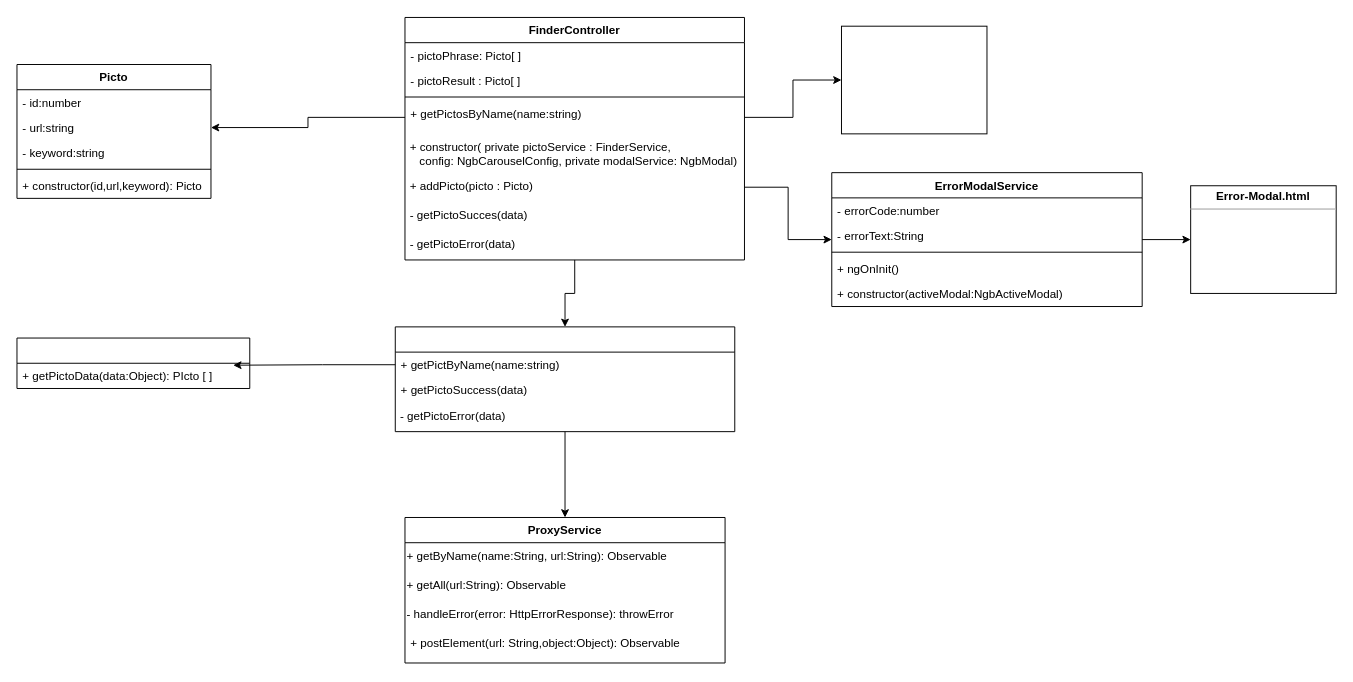
This 1353x682 diagram has some shape labels left out. Each missing label, with the box of its shape:
Finder.html: (841, 25, 987, 134)
FinderService: (394, 326, 735, 432)
FinderTransformer: (16, 337, 250, 388)
